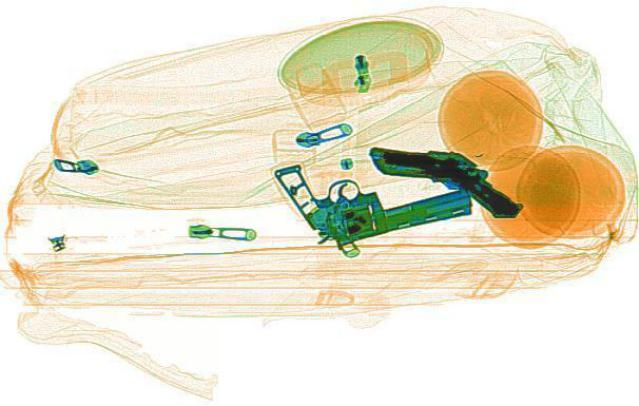Gun: (269, 131, 482, 247), (358, 122, 526, 236)
